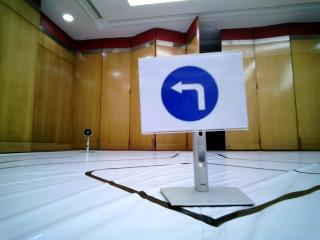left: (144, 59, 239, 122)
